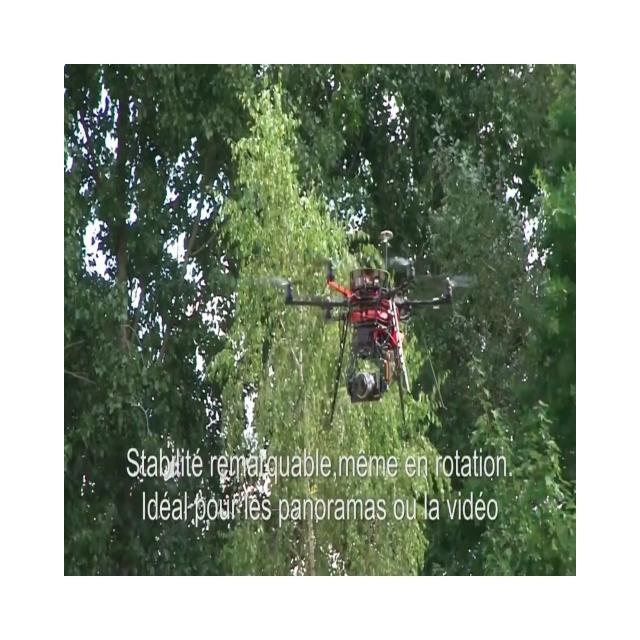drone: (237, 228, 474, 428)
